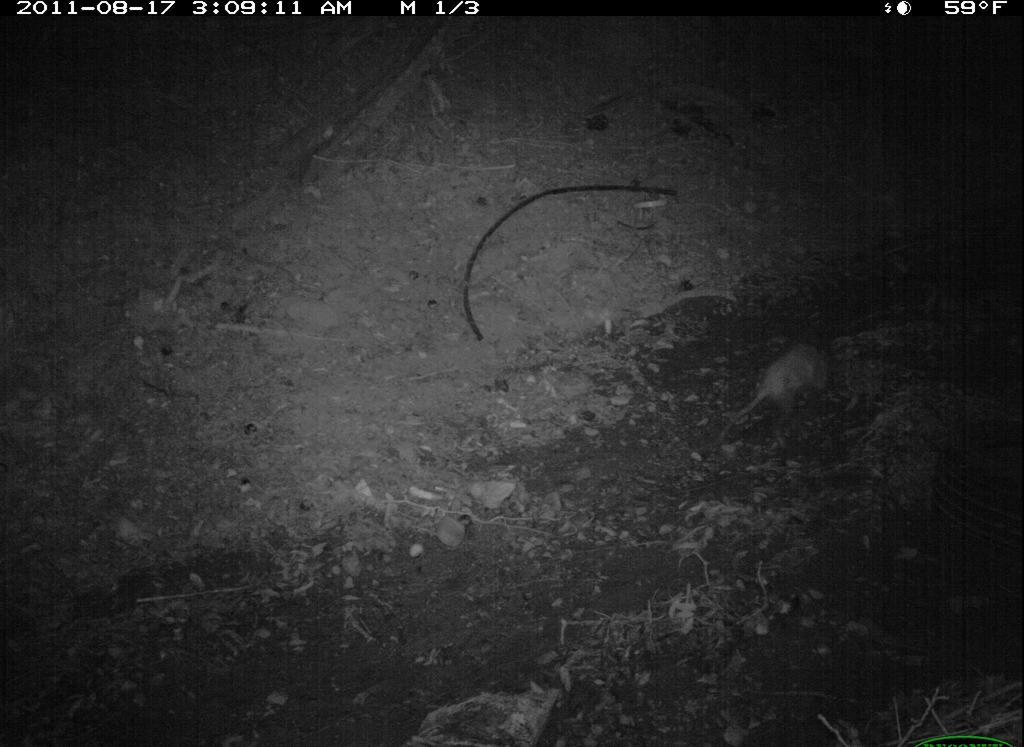opossum: (708, 335, 838, 456)
